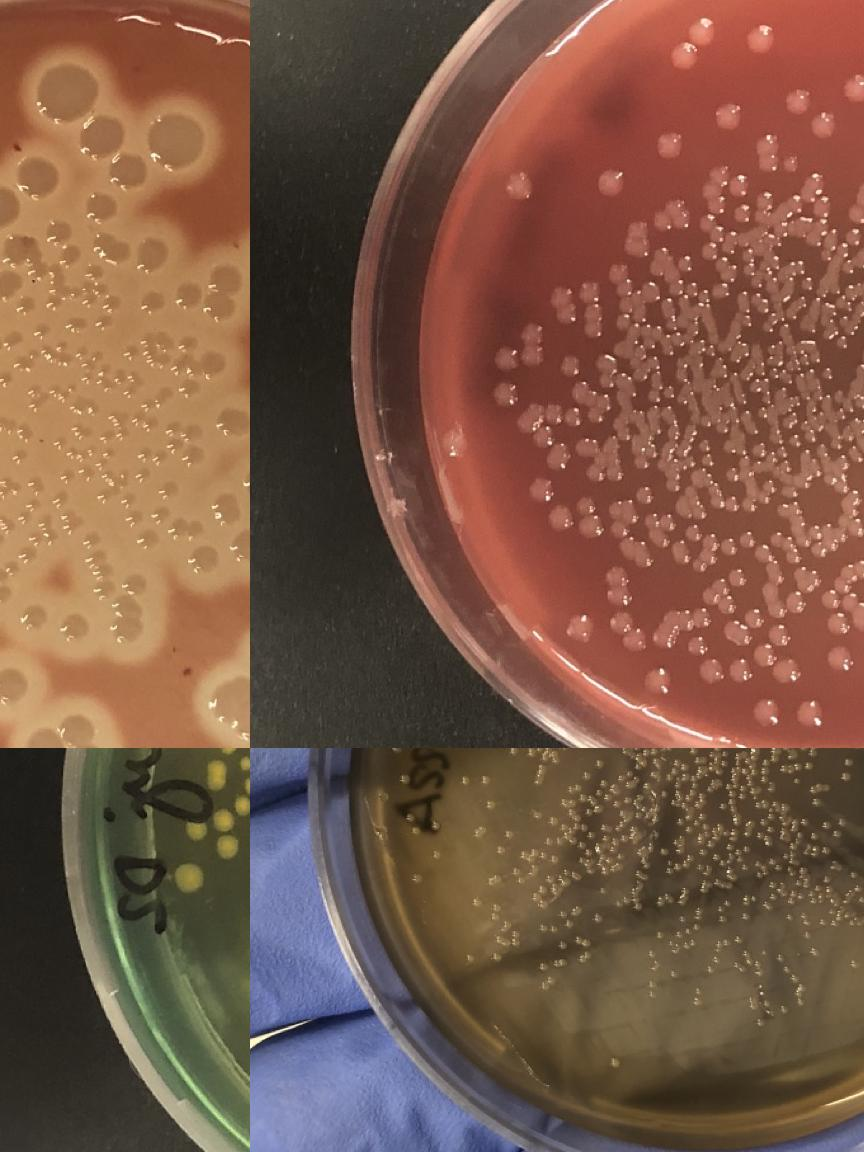assalmonicida: (740, 754, 772, 784), (566, 807, 594, 839), (807, 874, 834, 905), (530, 874, 553, 910), (718, 784, 747, 812), (521, 847, 559, 865), (568, 834, 594, 858), (714, 934, 743, 950), (739, 948, 762, 968), (566, 782, 588, 802), (803, 748, 821, 770), (790, 815, 810, 834), (596, 778, 613, 800), (534, 762, 548, 787), (617, 769, 634, 789), (612, 795, 634, 808), (559, 909, 574, 928), (768, 856, 784, 872), (473, 822, 488, 839), (692, 984, 704, 1005), (852, 883, 864, 903), (513, 866, 526, 884), (541, 975, 556, 990), (577, 950, 594, 963), (612, 833, 630, 845), (573, 934, 591, 946), (510, 928, 522, 946), (490, 902, 501, 921), (552, 956, 570, 967), (486, 873, 501, 886), (526, 748, 546, 754), (689, 748, 708, 752)
pddamselae: (90, 232, 172, 272), (147, 112, 205, 166), (38, 67, 96, 121), (20, 712, 101, 748), (207, 676, 250, 743), (78, 114, 124, 158), (14, 154, 60, 198), (204, 266, 235, 320), (109, 151, 148, 191), (113, 595, 140, 644), (214, 403, 250, 439), (84, 186, 120, 222), (0, 666, 28, 706), (226, 525, 250, 565), (0, 184, 20, 228), (212, 498, 240, 526), (20, 604, 46, 634), (198, 350, 225, 378), (186, 545, 212, 573), (172, 281, 198, 309), (138, 287, 164, 315), (62, 612, 88, 640), (46, 216, 72, 244), (0, 272, 15, 301), (238, 462, 250, 498)
sinniae: (668, 172, 754, 304), (682, 604, 802, 690), (607, 566, 648, 654), (816, 587, 854, 675), (646, 511, 704, 566), (669, 12, 718, 75), (742, 588, 810, 629), (581, 279, 604, 346), (756, 148, 806, 177), (809, 520, 840, 560), (808, 106, 840, 142), (792, 694, 824, 730), (750, 693, 782, 729), (714, 98, 746, 134), (654, 126, 686, 162), (642, 662, 674, 698), (522, 320, 546, 368), (746, 21, 777, 57), (596, 164, 628, 198), (440, 426, 472, 460), (550, 284, 576, 324), (719, 528, 756, 556), (770, 531, 802, 563), (565, 609, 597, 641), (505, 170, 536, 202), (714, 566, 748, 594), (650, 323, 688, 348), (784, 86, 816, 114), (580, 388, 604, 424), (544, 404, 582, 426), (842, 67, 864, 103), (650, 206, 676, 234), (640, 278, 666, 306), (696, 434, 716, 469), (823, 469, 849, 495), (529, 478, 555, 504), (739, 407, 762, 436), (794, 256, 813, 290), (494, 380, 518, 406), (607, 516, 629, 542), (606, 258, 628, 284), (535, 425, 557, 451), (496, 345, 518, 371), (750, 438, 767, 471), (814, 190, 834, 216), (845, 202, 864, 228), (838, 323, 856, 350), (615, 310, 635, 331), (678, 253, 698, 273), (634, 484, 654, 504), (576, 436, 596, 456), (561, 354, 581, 374), (785, 194, 805, 213), (756, 189, 774, 209), (710, 163, 728, 183), (586, 462, 604, 482), (578, 495, 596, 515), (843, 300, 864, 317), (739, 244, 756, 264), (665, 476, 682, 496), (599, 371, 616, 391), (696, 412, 714, 430), (768, 445, 787, 462), (774, 220, 790, 240), (762, 477, 778, 497), (740, 493, 756, 513), (646, 352, 662, 372), (767, 252, 782, 272), (764, 312, 779, 332), (710, 492, 725, 512), (820, 364, 834, 382), (849, 519, 864, 535), (646, 388, 664, 401), (664, 384, 678, 400), (776, 502, 791, 516), (770, 570, 785, 584), (820, 246, 834, 260), (756, 542, 770, 556), (857, 177, 864, 203), (831, 438, 843, 450)
vharveyi: (212, 795, 250, 831), (172, 861, 204, 892), (213, 834, 240, 860), (239, 755, 250, 771), (220, 748, 238, 754)
